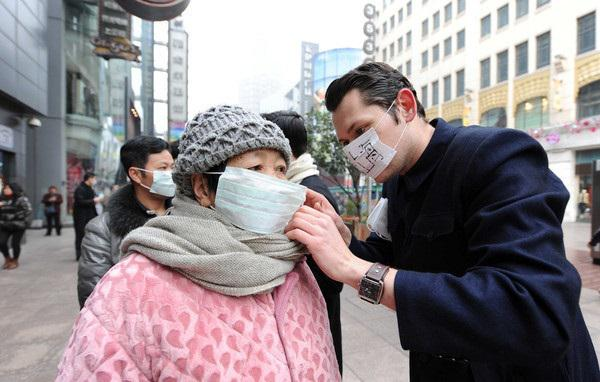NONE: (5, 187, 12, 197)
OK: (215, 150, 293, 228), (145, 158, 178, 199), (91, 178, 98, 187)
WRONG: (339, 115, 400, 184)
